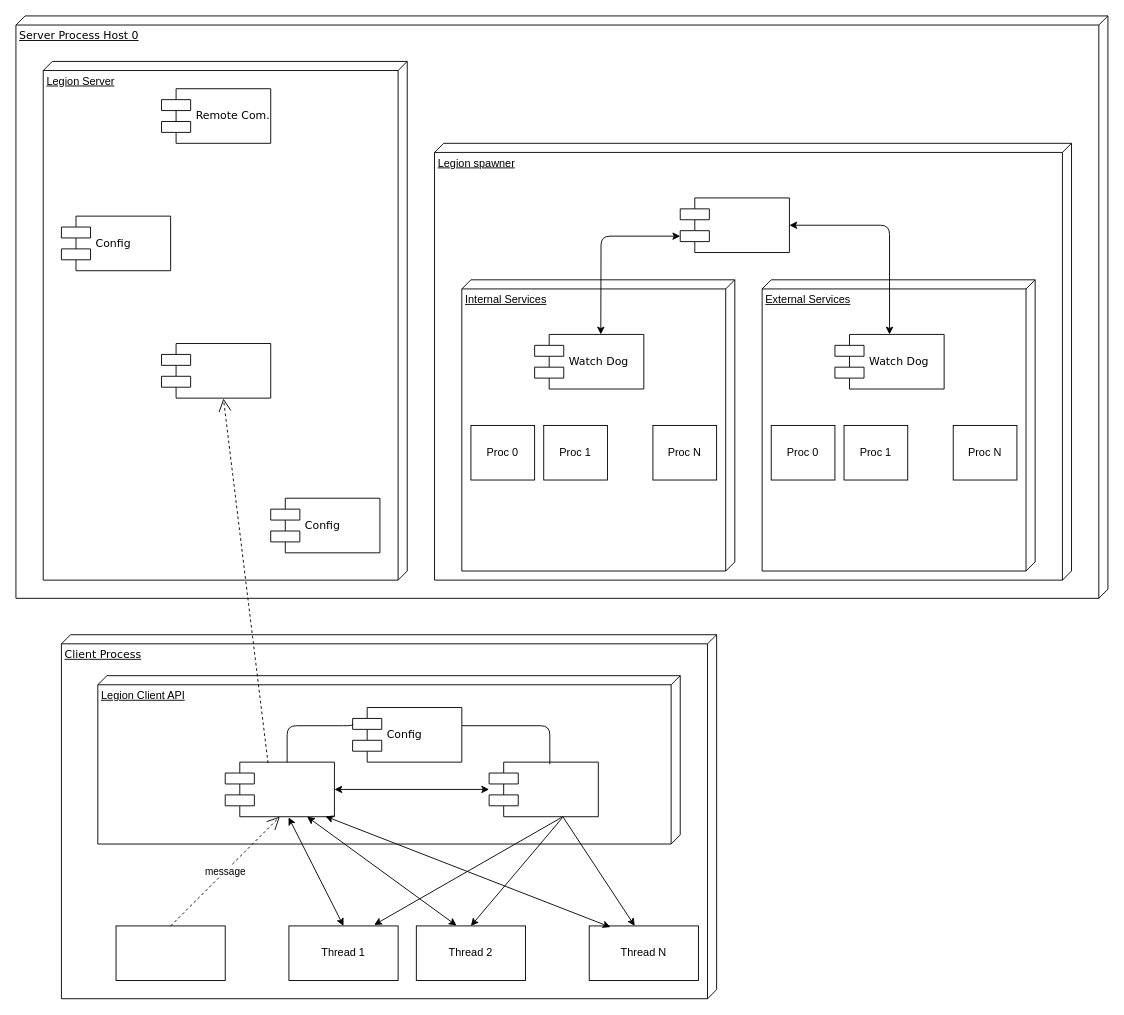
Image size: 1124x1015. Some labels were removed from this diagram. The centre of each missing label's shape, as x and y in pixels:
API: (279,789)
Local Com.: (216,370)
Process Spawner: (734,225)
Spawner: (543,789)
Thread 0: (170,953)
